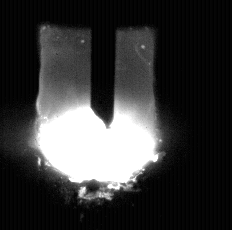arame: (91, 0, 116, 129)
poca: (35, 0, 159, 230)
